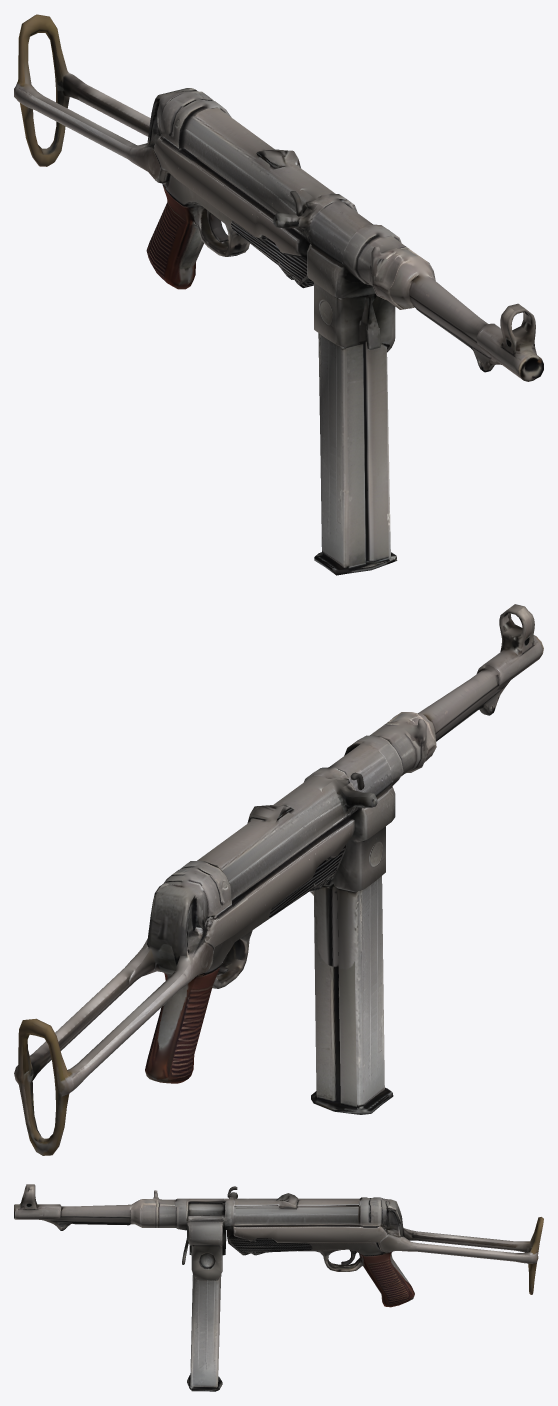
3 views of the same model, one above another, from view 1: azimuth 30°, elevation 25°; view 2: azimuth 150°, elevation 25°; view 3: azimuth 270°, elevation 25° (orthographic). The views are drawn at different scales.
Visible parts, largest first — view 1: body, loader, muzzle, weaponHandle; view 2: body, loader, weaponHandle, muzzle; view 3: body, loader, weaponHandle, muzzle.
Boxes of the visible parts, x1,y1,x2,y2 form: body: (14, 14, 492, 372); loader: (314, 333, 397, 575); muzzle: (476, 303, 543, 381); weaponHandle: (146, 192, 203, 289); body: (14, 664, 504, 1155); loader: (311, 876, 393, 1114); weaponHandle: (145, 966, 220, 1083); muzzle: (476, 604, 543, 690); body: (49, 1190, 543, 1294); loader: (187, 1274, 222, 1391); weaponHandle: (359, 1253, 414, 1307); muzzle: (14, 1184, 61, 1230).
Bounding box in the file's own units: 11.89 × 114 × 47.26.
1 material, 1 textured.
